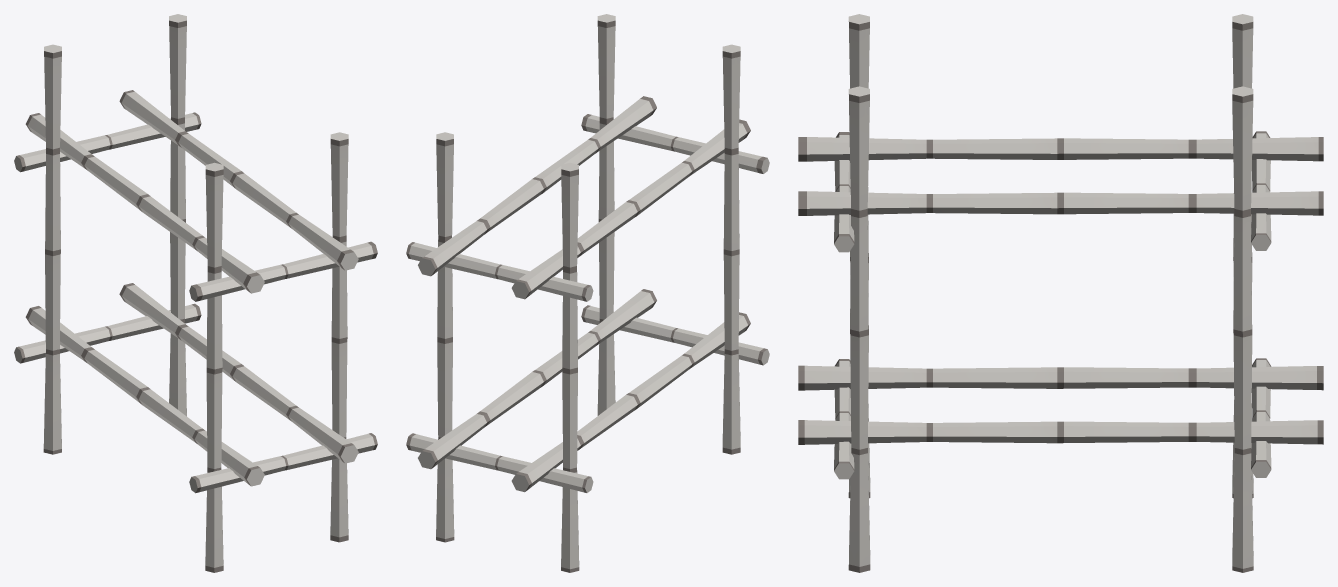
File: Bamboo_forest_1.fbx
3 renders of one model, left to right at view 1: azimuth 30°, elevation 25°; view 2: azimuth 150°, elevation 25°; view 3: azimuth 270°, elevation 25°, orthographic. The views are drawn at different scales.
Parts seen in each view (by area): view 1: Bamboo_forest_1; view 2: Bamboo_forest_1; view 3: Bamboo_forest_1.
Boxes of the visible parts, <box> form: Bamboo_forest_1: <box>14,14,377,572</box>; Bamboo_forest_1: <box>406,14,769,572</box>; Bamboo_forest_1: <box>798,14,1323,572</box>.
Bounding box in the file's own units: 1.87 × 3.99 × 3.99.
Materials: 1 (1 with a texture image).
